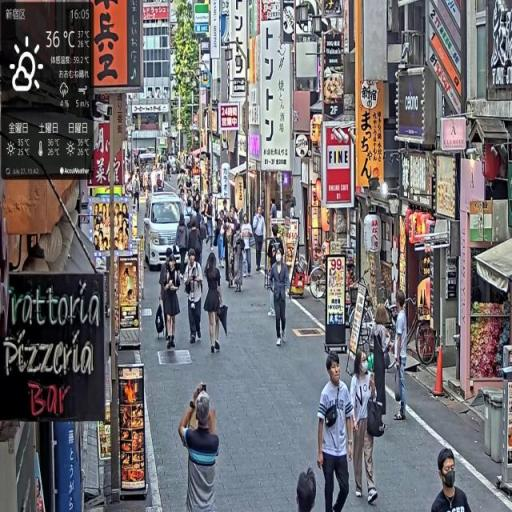person: (318, 354, 357, 512), (177, 383, 222, 512), (349, 348, 384, 506), (432, 449, 473, 512), (159, 251, 184, 351), (203, 251, 226, 355), (269, 243, 291, 351), (184, 248, 206, 346), (394, 291, 409, 424), (253, 205, 267, 276), (241, 210, 254, 279)
